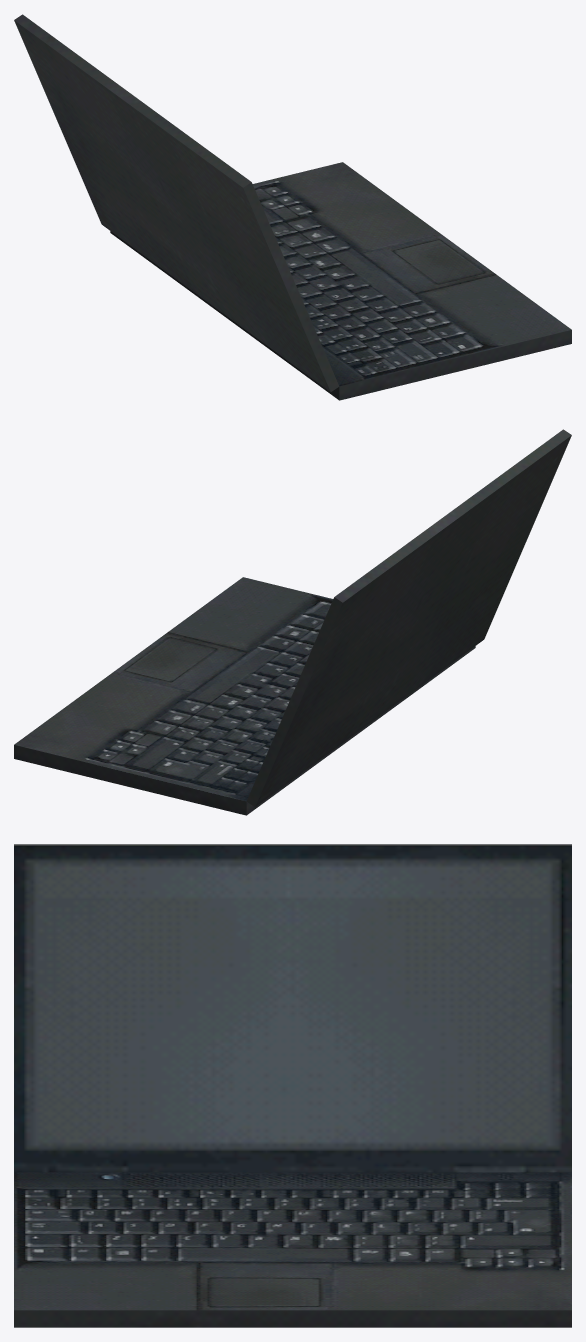
Rendered from Laptop.fbx.
3 renders of one model, top to bottom at view 1: azimuth 30°, elevation 25°; view 2: azimuth 150°, elevation 25°; view 3: azimuth 270°, elevation 25°, orthographic. The views are drawn at different scales.
Parts seen in each view (by area): view 1: Laptop, Plane.006; view 2: Laptop, Plane.006; view 3: Plane.006, Laptop.
Part boxes in pixels (<box>): Laptop: <box>110,162,571,400</box>; Plane.006: <box>14,14,339,391</box>; Laptop: <box>14,577,475,815</box>; Plane.006: <box>246,429,571,806</box>; Plane.006: <box>14,844,571,1172</box>; Laptop: <box>14,1172,571,1327</box>.
Size of the model in its own units: 25.69 by 17.91 by 31.
